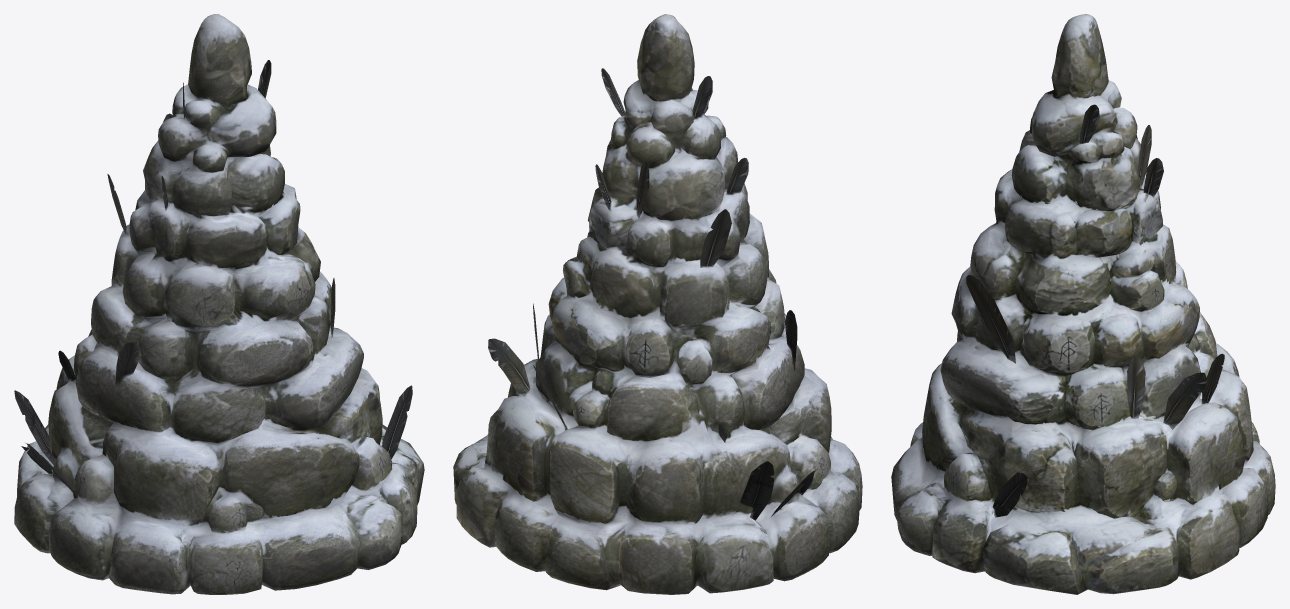
The model's file is SM_Env_HeorotStoneCairn.fbx.
3 renders of one model, left to right at view 1: azimuth 30°, elevation 25°; view 2: azimuth 150°, elevation 25°; view 3: azimuth 270°, elevation 25°, orthographic.
Visible parts, largest first — view 1: SM_Env_HeorotStoneCairn; view 2: SM_Env_HeorotStoneCairn; view 3: SM_Env_HeorotStoneCairn.
Boxes of the visible parts, bbox=[...] form: SM_Env_HeorotStoneCairn: bbox=[14, 14, 424, 594]; SM_Env_HeorotStoneCairn: bbox=[453, 14, 862, 594]; SM_Env_HeorotStoneCairn: bbox=[891, 14, 1275, 594].
Bounding box in the file's own units: 27.1 × 25.48 × 36.
Materials: 1 (1 with a texture image).
